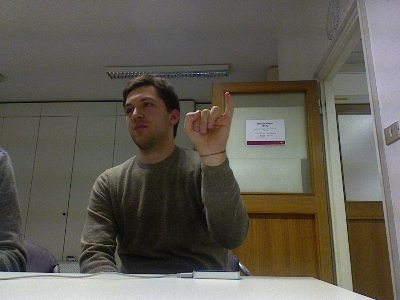小指: (183, 90, 234, 153)
